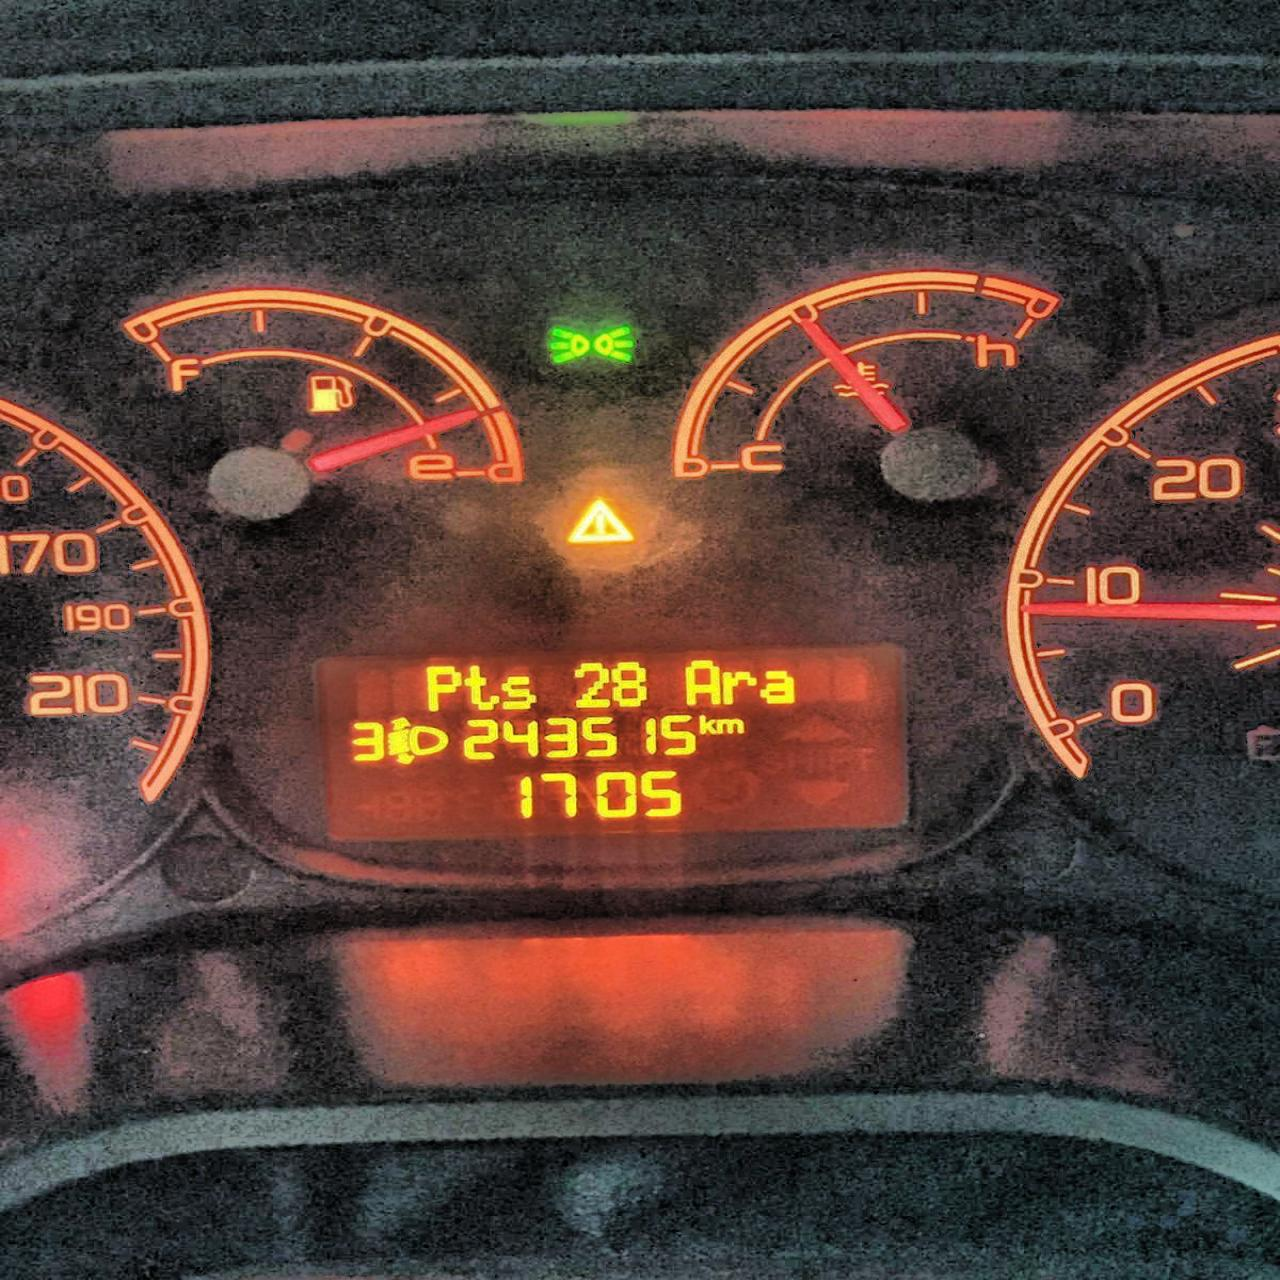0: (592, 768, 635, 819)
1: (512, 768, 538, 825), (644, 715, 659, 758)
2: (572, 659, 612, 708), (463, 717, 497, 762)
3: (347, 714, 384, 761), (540, 713, 577, 760)
4: (502, 716, 539, 757)
5: (639, 768, 686, 818), (578, 714, 619, 756), (660, 714, 694, 758)
7: (538, 768, 584, 818)
8: (611, 660, 651, 707)
X: (422, 662, 462, 710), (682, 659, 722, 706), (462, 665, 497, 710), (499, 674, 537, 709), (721, 669, 757, 704), (762, 668, 796, 706), (715, 716, 745, 736), (696, 713, 715, 737)
odometer: (320, 645, 907, 831)
